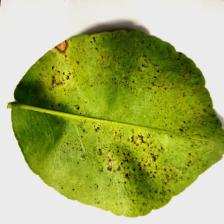canker: (53, 40, 191, 202)
